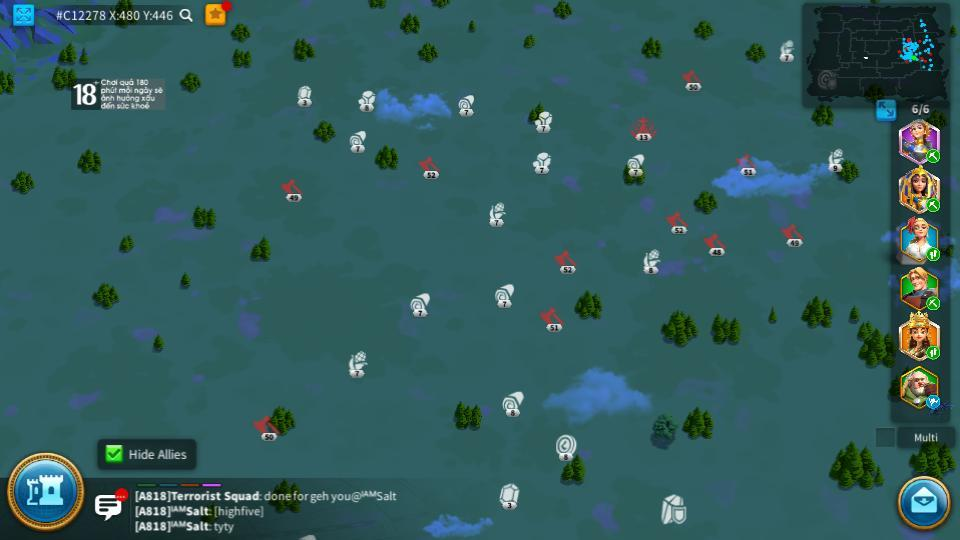gem-z-out: (498, 483, 520, 509), (295, 85, 314, 105)
march_farming: (925, 197, 941, 212), (925, 297, 942, 310)
march_idle: (926, 396, 943, 408)
march_marching: (925, 150, 942, 162), (925, 347, 942, 359)
